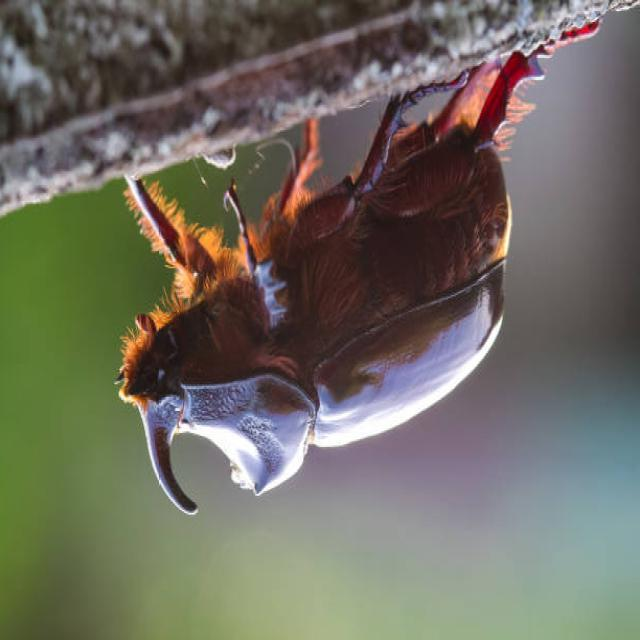Rhino-beetle: (97, 88, 559, 528)
